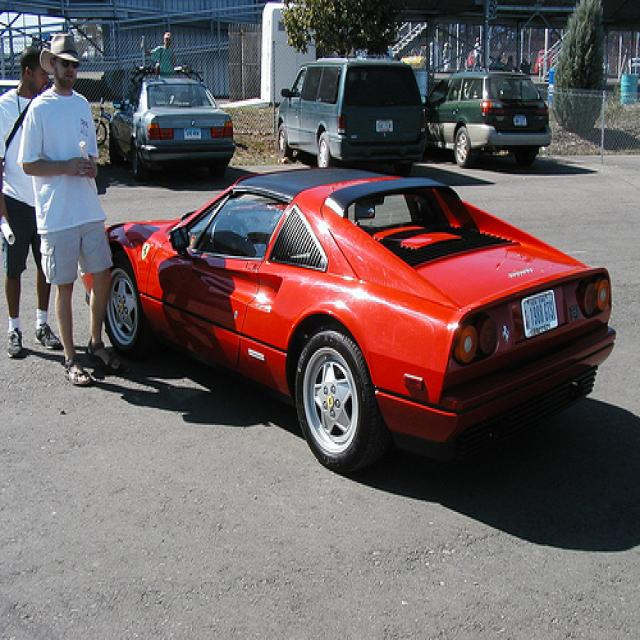light_vehicle: (106, 166, 617, 484), (275, 56, 430, 169), (105, 73, 235, 181), (428, 72, 554, 167)
